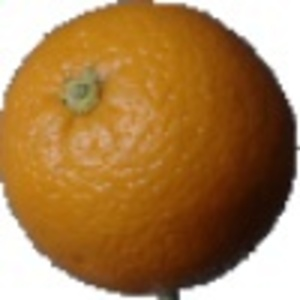laranja: (3, 3, 296, 298)
